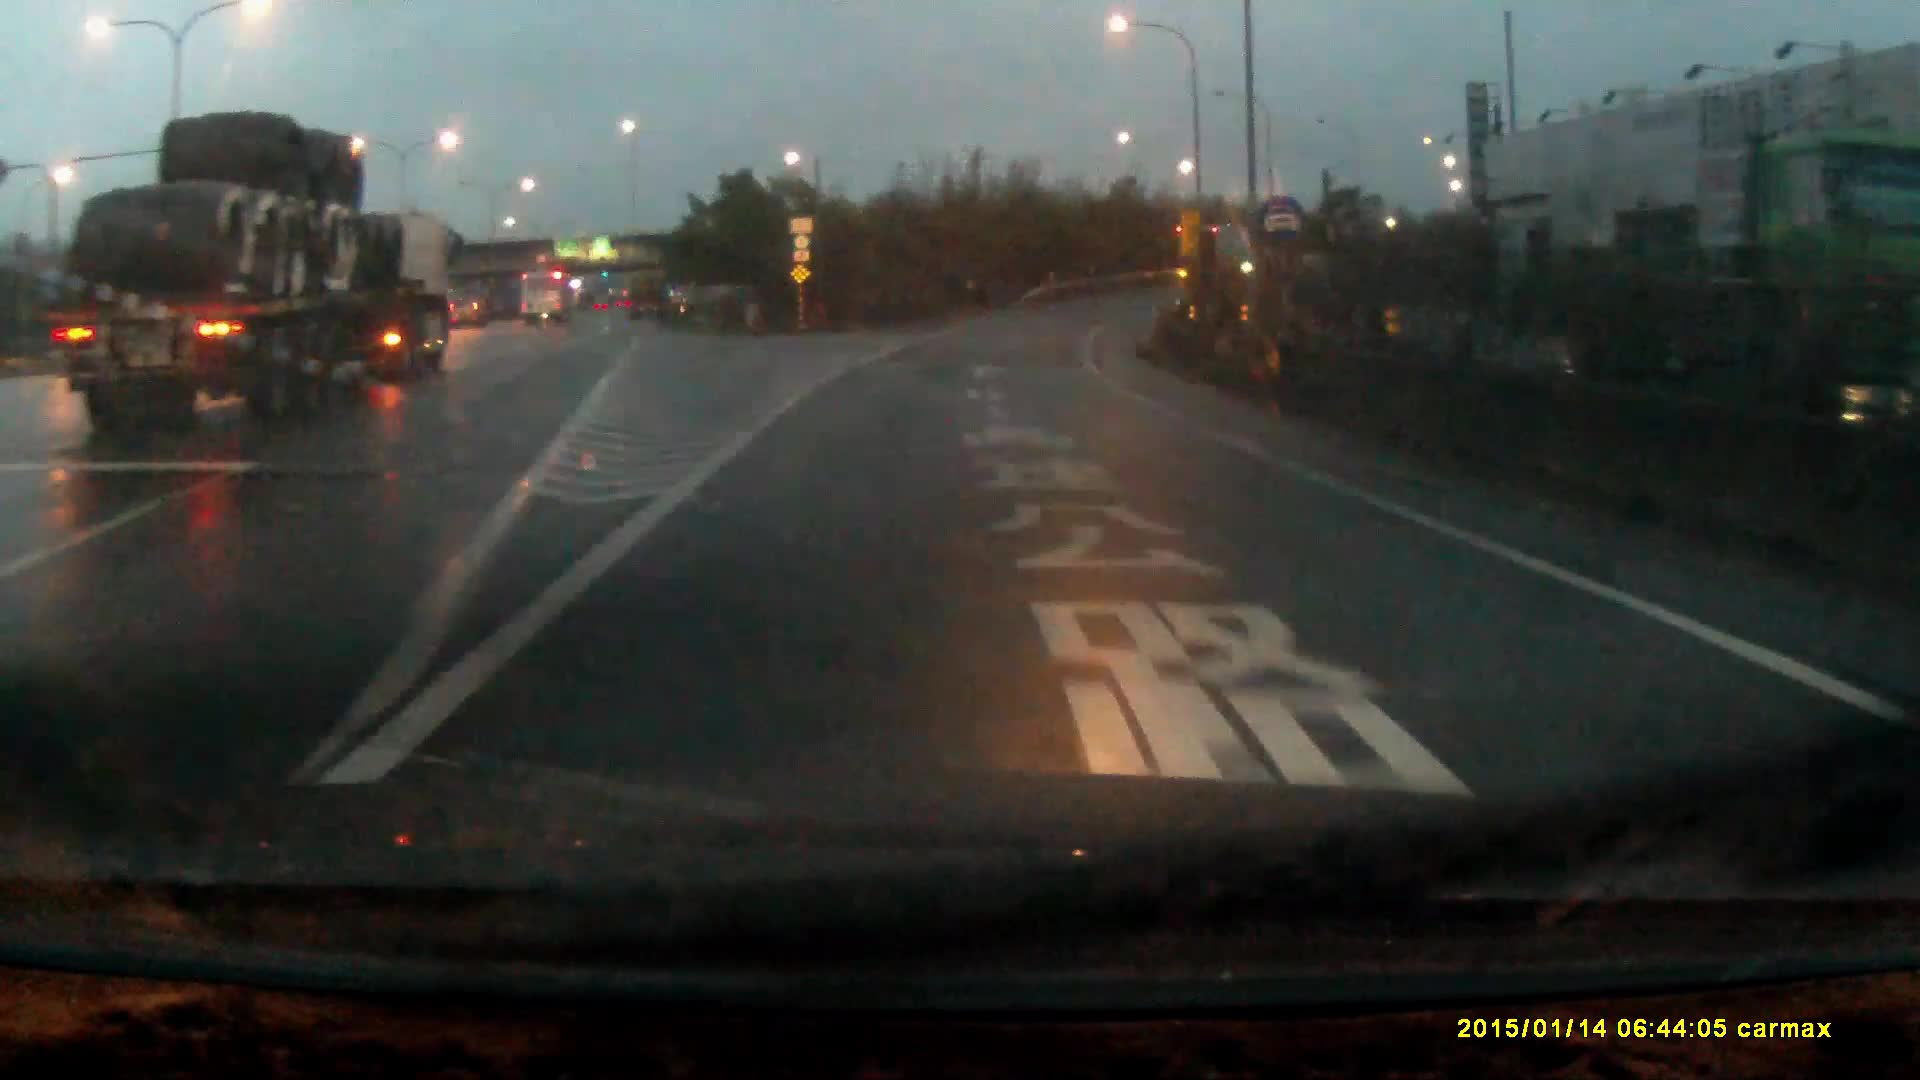vehicle: (51, 111, 462, 421), (520, 270, 578, 327)
